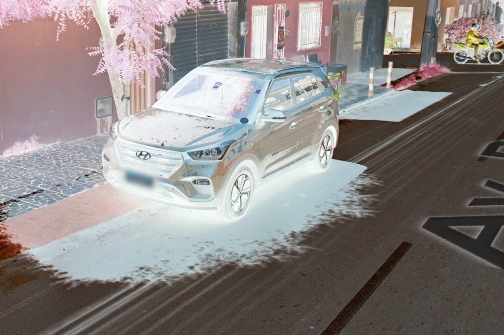car: (100, 53, 347, 220)
